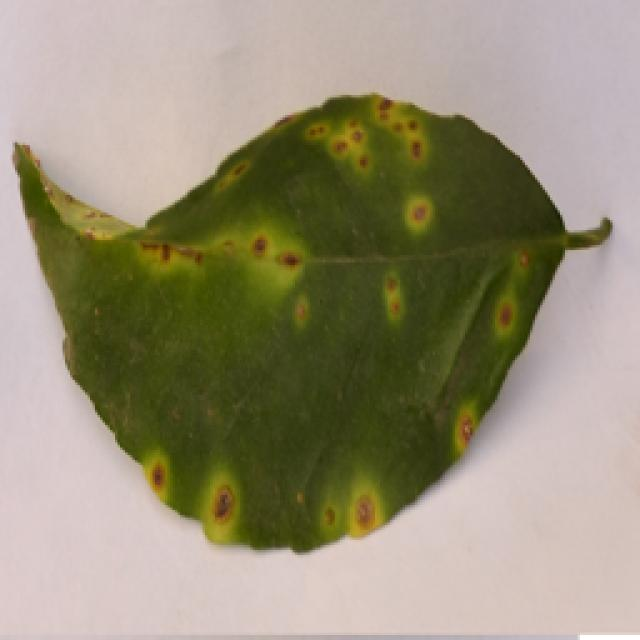canker: (11, 104, 570, 564)
